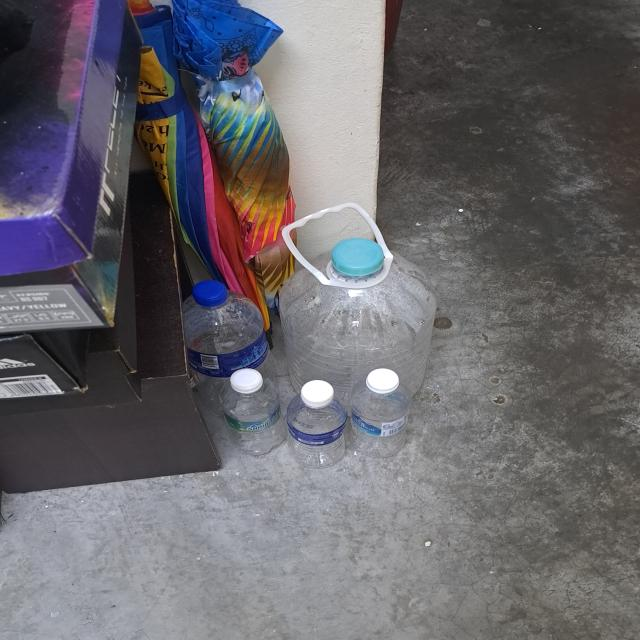plastic bottle: (279, 252, 432, 426), (180, 296, 279, 410), (348, 373, 416, 457), (225, 369, 283, 461), (281, 394, 353, 464)
plastic bottle cap: (331, 235, 383, 278), (298, 376, 339, 410), (364, 366, 403, 395), (231, 366, 266, 398), (193, 278, 227, 306)
